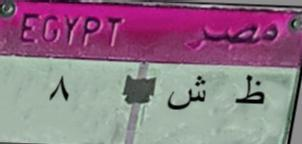8: (44, 71, 75, 107)
Thaa: (227, 72, 271, 112)
sheen: (167, 73, 210, 114)
